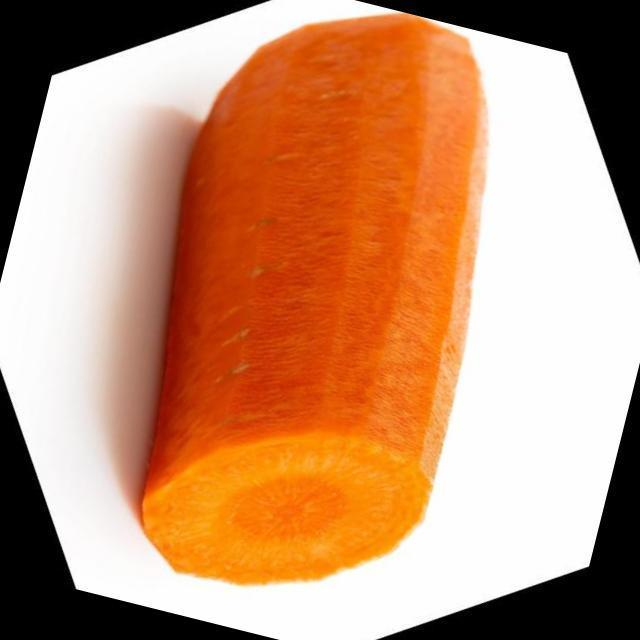Carrot: (142, 15, 486, 584)
